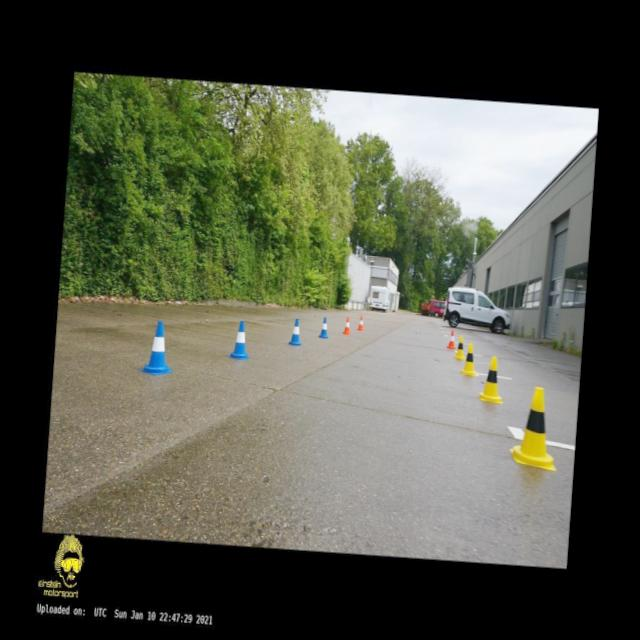blue_cone: (138, 320, 176, 376), (226, 319, 252, 360), (287, 318, 303, 346), (318, 316, 329, 338)
orange_cone: (446, 328, 456, 348), (342, 316, 351, 334), (356, 315, 364, 331)
yellow_cone: (508, 384, 562, 470), (478, 354, 506, 402), (459, 342, 478, 375), (453, 335, 467, 360)
